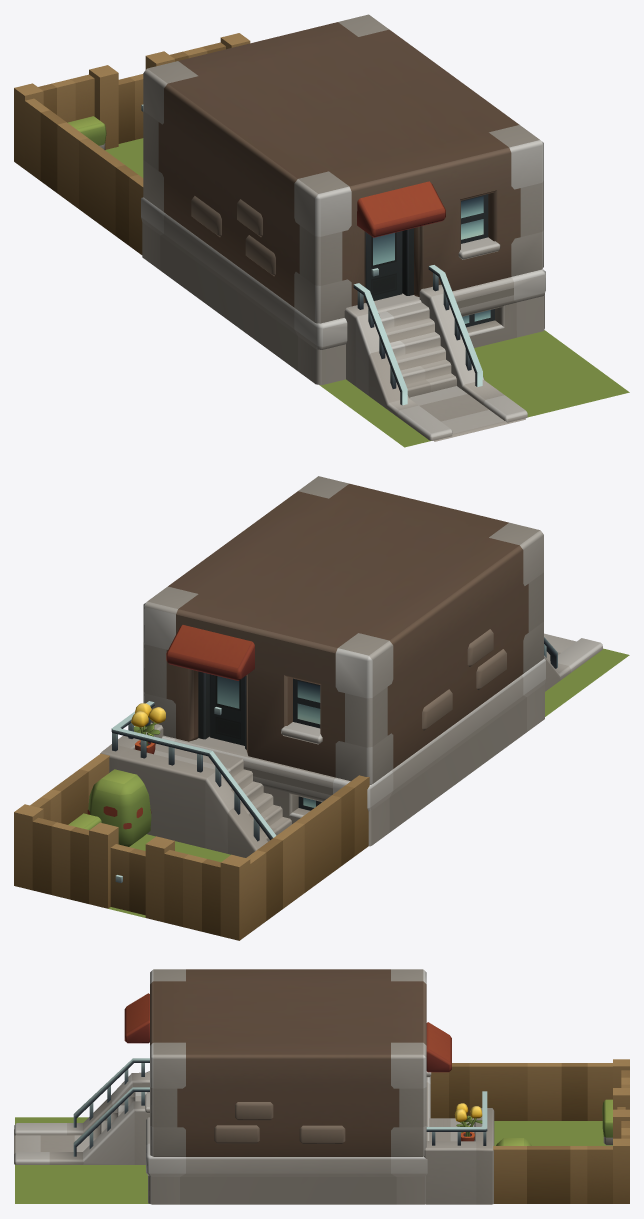
Rendered from appartment_type1_x3_ground_beige.fbx.
3 views of the same model, one above another, from view 1: azimuth 30°, elevation 25°; view 2: azimuth 150°, elevation 25°; view 3: azimuth 270°, elevation 25° (orthographic). The views are drawn at different scales.
Visible parts, largest first — view 1: appartment_type1_x3_ground_beige, door_front_appartment_type1_x3_ground, door_garden_appartment_type1_x3_ground; view 2: appartment_type1_x3_ground_beige, door_back_appartment_type1_x3_ground, door_garden_appartment_type1_x3_ground; view 3: appartment_type1_x3_ground_beige.
Boxes of the visible parts, left/top/right/bottom form: appartment_type1_x3_ground_beige: left=14, top=14, right=629, bottom=447; door_front_appartment_type1_x3_ground: left=367, top=231, right=402, bottom=300; door_garden_appartment_type1_x3_ground: left=118, top=74, right=143, bottom=143; appartment_type1_x3_ground_beige: left=14, top=476, right=629, bottom=940; door_back_appartment_type1_x3_ground: left=209, top=674, right=244, bottom=745; door_garden_appartment_type1_x3_ground: left=110, top=844, right=145, bottom=915; appartment_type1_x3_ground_beige: left=14, top=969, right=629, bottom=1204.
Bounding box in the file's own units: 628 × 487 × 1803.
